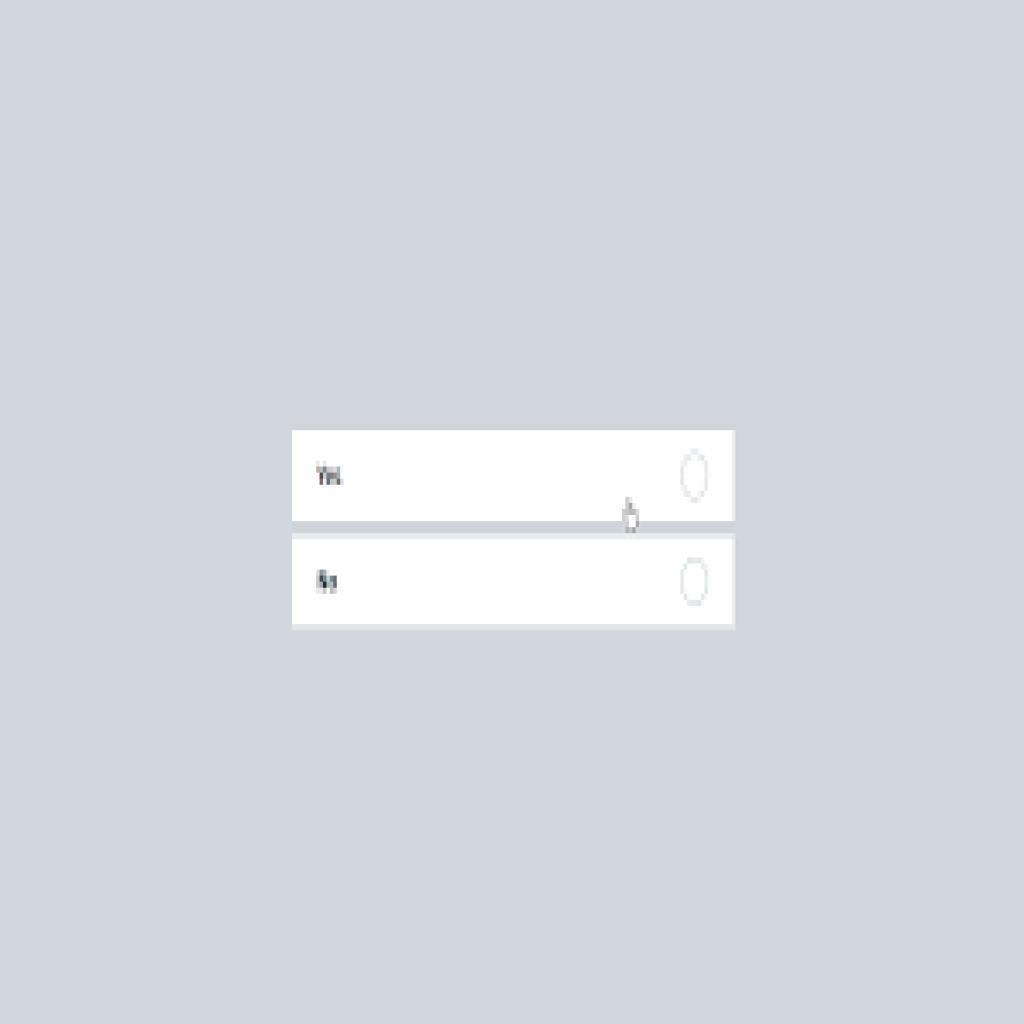radio: (676, 450, 717, 503), (679, 551, 715, 608), (690, 442, 692, 444)
